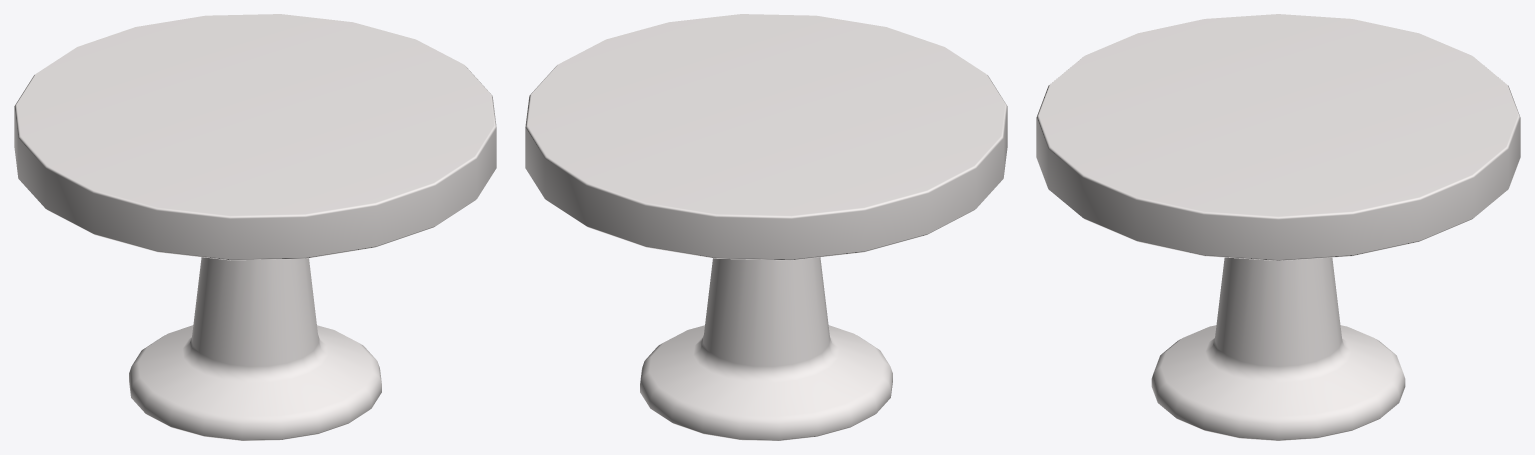
The model's file is Store_5_Table_1.glb.
3 views of the same model, side by side, from view 1: azimuth 30°, elevation 25°; view 2: azimuth 150°, elevation 25°; view 3: azimuth 270°, elevation 25° (orthographic).
Parts seen in each view (by area): view 1: Store_5_Table_1; view 2: Store_5_Table_1; view 3: Store_5_Table_1.
Boxes of the visible parts, left/top/right/bottom form: Store_5_Table_1: left=14, top=14, right=496, bottom=440; Store_5_Table_1: left=525, top=14, right=1007, bottom=440; Store_5_Table_1: left=1036, top=14, right=1520, bottom=440.
Size of the model in its own units: 1.5 by 0.9354 by 1.5.
1 material, 1 textured.
